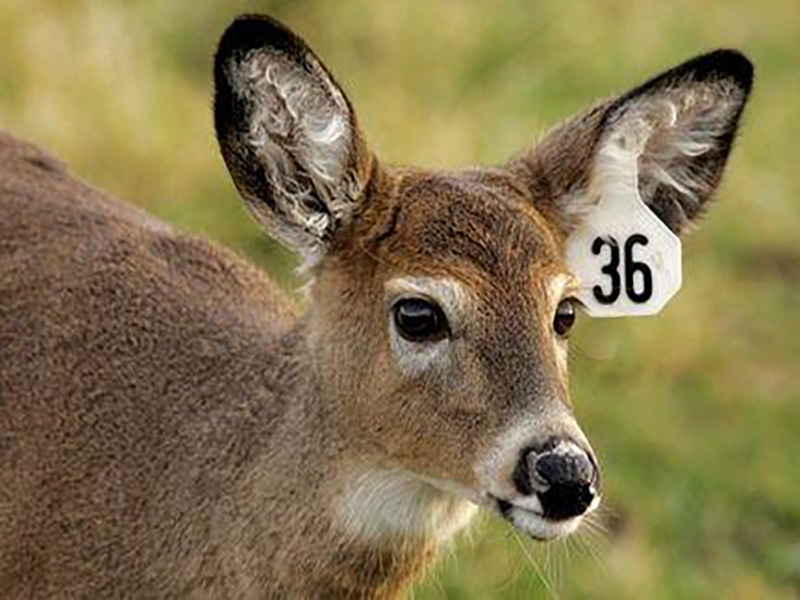cervo: (10, 12, 758, 598)
